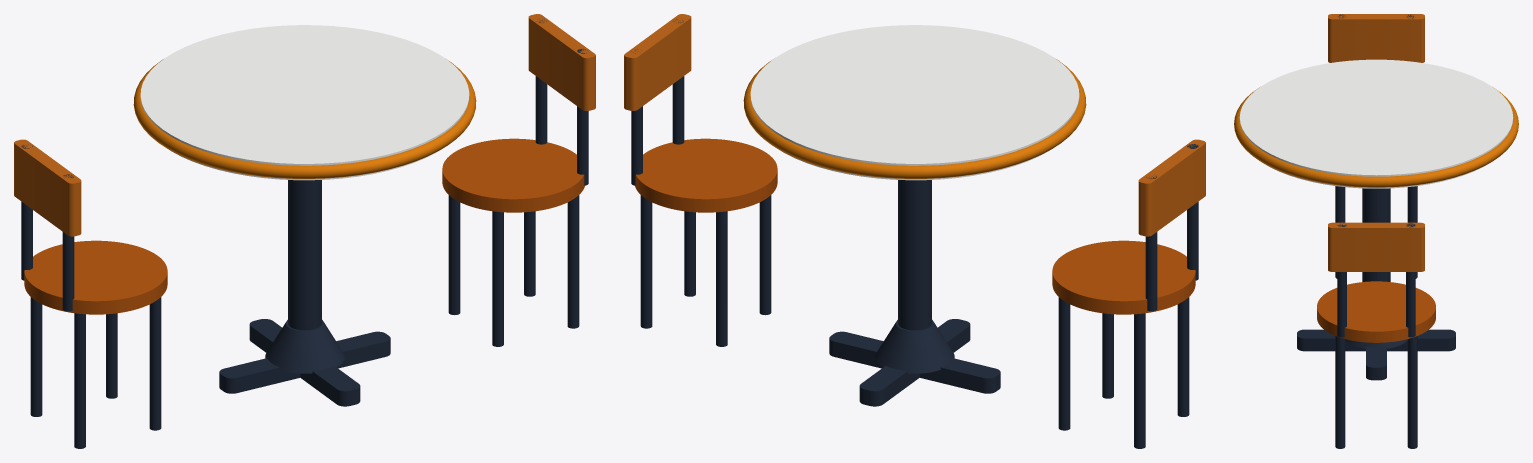
File: bistro_table.glb
3 renders of one model, left to right at view 1: azimuth 30°, elevation 25°; view 2: azimuth 150°, elevation 25°; view 3: azimuth 270°, elevation 25°, orthographic. The views are drawn at different scales.
Visible parts, largest first — view 1: tabletop, c_seat_R, c_seat_L, table_rim, pole, c_back_L, c_back_R, foot_0, pole_collar, foot_90, c_leg_L_1, c_leg_R_1 (+10 smaller); view 2: tabletop, c_seat_R, c_seat_L, table_rim, pole, c_back_R, c_back_L, foot_0, pole_collar, foot_90, c_leg_L_3, c_leg_R_3 (+10 smaller); view 3: tabletop, c_seat_R, c_back_R, c_back_L, table_rim, foot_90, pole, c_leg_R_1, c_leg_R_3, foot_0, c_bp_R_1, c_bp_R_0 (+3 smaller).
Part boxes in pixels (x1,y1,x2,y2): tabletop: (140, 25, 469, 180); c_seat_R: (442, 138, 584, 212); c_seat_L: (24, 240, 167, 314); table_rim: (133, 59, 476, 178); pole: (288, 180, 321, 330); c_back_L: (14, 139, 81, 236); c_back_R: (528, 14, 595, 110); foot_0: (219, 331, 390, 393); pole_collar: (265, 320, 344, 373); foot_90: (249, 319, 360, 406); c_leg_L_1: (149, 297, 161, 430); c_leg_R_1: (567, 195, 579, 328); tabletop: (750, 25, 1079, 180); c_seat_R: (635, 138, 777, 212); c_seat_L: (1052, 240, 1195, 314); table_rim: (743, 59, 1086, 178); pole: (898, 180, 931, 330); c_back_R: (624, 14, 691, 110); c_back_L: (1138, 139, 1205, 236); foot_0: (829, 331, 1000, 393); pole_collar: (875, 320, 954, 373); foot_90: (859, 319, 970, 406); c_leg_L_3: (1058, 297, 1070, 430); c_leg_R_3: (640, 195, 652, 328); tabletop: (1239, 59, 1513, 188); c_seat_R: (1317, 281, 1435, 342); c_back_R: (1328, 222, 1424, 271); c_back_L: (1328, 14, 1424, 62); table_rim: (1234, 87, 1518, 187); foot_90: (1297, 329, 1455, 351); pole: (1362, 188, 1390, 281); c_leg_R_1: (1335, 336, 1345, 448); c_leg_R_3: (1407, 336, 1417, 448); foot_0: (1366, 347, 1386, 380); c_bp_R_1: (1406, 223, 1415, 337); c_bp_R_0: (1337, 223, 1346, 337).
Bounding box in the file's own units: 1.18 × 0.574 × 0.646.
